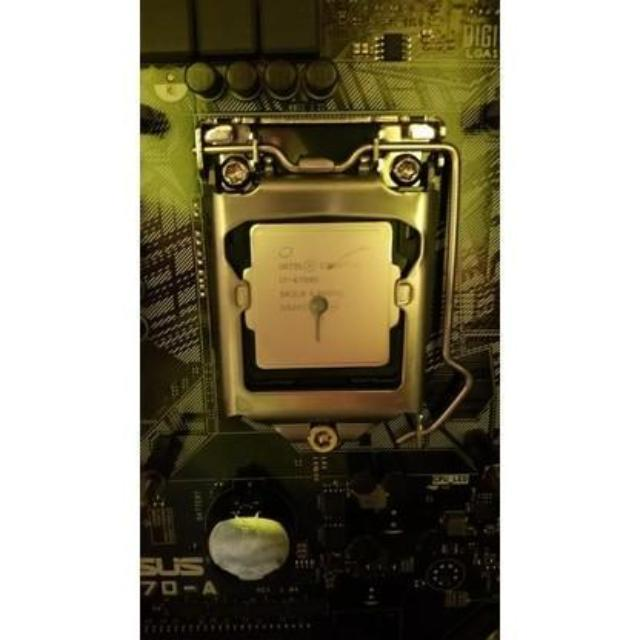CPU: (244, 214, 402, 377)
